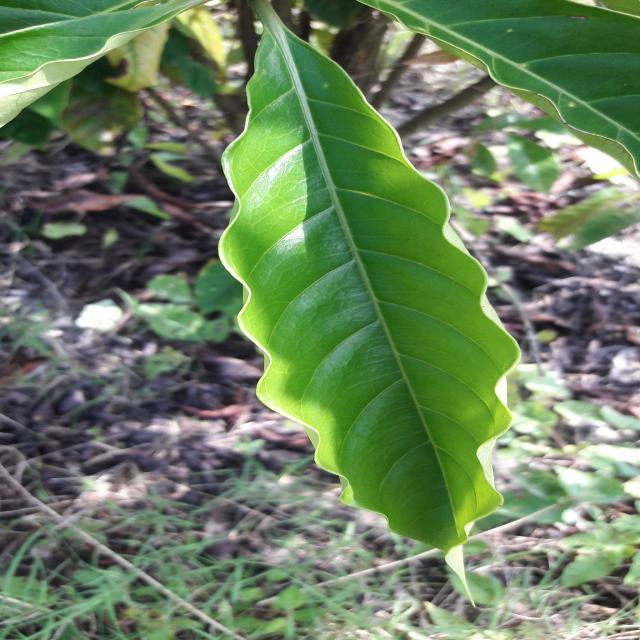Sanas: (217, 2, 522, 557)
